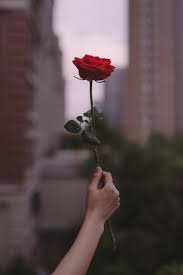lale: (58, 41, 128, 171)
